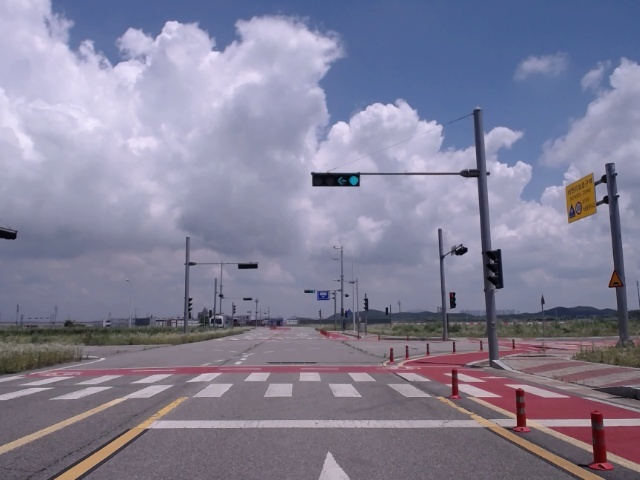all_green_4: (309, 173, 360, 185)
